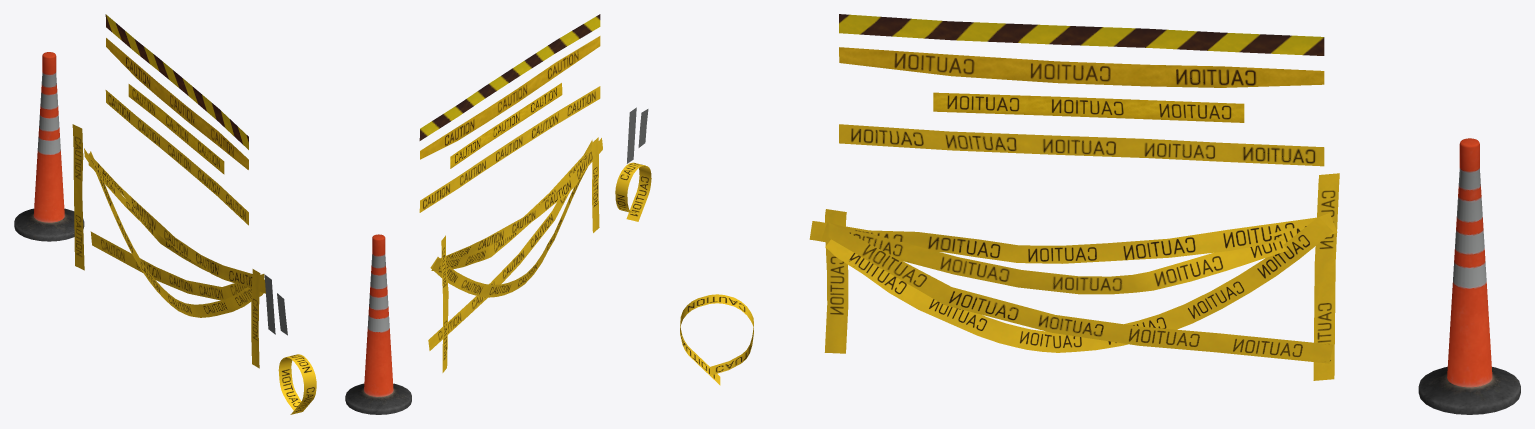
File: caution-tape.gltf
The picture shows the model from 3 angles, left to right: view 1: azimuth 30°, elevation 25°; view 2: azimuth 150°, elevation 25°; view 3: azimuth 270°, elevation 25°; orthographic projection. The views are drawn at different scales.
Parts seen in each view (by area): view 1: Stand, CautionTape_2, CautionTape_5, CautionTape_1, CautionTape_7, CautionTape_8, CautionTape_4, CautionTape_11, CautionTape_10, CautionTape_3, CautionTape_6, CautionTape_9 (+1 smaller); view 2: Stand, CautionTape_2, CautionTape_1, CautionTape_4, CautionTape_5, CautionTape_7, CautionTape_8, CautionTape_3, CautionTape_11, CautionTape_6, CautionTape_10, CautionTape_9 (+1 smaller); view 3: Stand, CautionTape_2, CautionTape_8, CautionTape_7, CautionTape_1, CautionTape_4, CautionTape_6, CautionTape_5, CautionTape_3, CautionTape_10, CautionTape_9, CautionTape_11.
Boxes of the visible parts, bbox=[...] form: Stand: bbox=[14, 52, 84, 241]; CautionTape_2: bbox=[106, 38, 248, 169]; CautionTape_5: bbox=[88, 153, 265, 293]; CautionTape_1: bbox=[105, 14, 248, 149]; CautionTape_7: bbox=[89, 151, 263, 317]; CautionTape_8: bbox=[90, 231, 264, 300]; CautionTape_4: bbox=[105, 90, 248, 225]; CautionTape_11: bbox=[278, 354, 316, 414]; CautionTape_10: bbox=[72, 124, 84, 270]; CautionTape_3: bbox=[128, 84, 224, 174]; CautionTape_6: bbox=[84, 148, 261, 278]; CautionTape_9: bbox=[251, 269, 260, 368]; Stand: bbox=[345, 234, 411, 414]; CautionTape_2: bbox=[420, 36, 600, 159]; CautionTape_1: bbox=[419, 14, 600, 140]; CautionTape_4: bbox=[419, 86, 600, 212]; CautionTape_5: bbox=[439, 138, 602, 269]; CautionTape_7: bbox=[430, 167, 587, 297]; CautionTape_8: bbox=[428, 140, 592, 350]; CautionTape_3: bbox=[450, 83, 562, 168]; CautionTape_11: bbox=[615, 162, 651, 221]; CautionTape_6: bbox=[431, 146, 592, 271]; CautionTape_10: bbox=[441, 235, 448, 372]; CautionTape_9: bbox=[592, 137, 599, 232]; Stand: bbox=[1418, 138, 1520, 414]; CautionTape_2: bbox=[839, 47, 1324, 87]; CautionTape_8: bbox=[828, 222, 1333, 363]; CautionTape_7: bbox=[825, 217, 1332, 352]; CautionTape_1: bbox=[839, 14, 1324, 55]; CautionTape_4: bbox=[839, 124, 1324, 166]; CautionTape_6: bbox=[821, 213, 1337, 294]; CautionTape_5: bbox=[809, 217, 1316, 263]; CautionTape_3: bbox=[933, 92, 1244, 122]; CautionTape_10: bbox=[1313, 173, 1339, 380]; CautionTape_9: bbox=[824, 209, 848, 353]; CautionTape_11: bbox=[680, 294, 753, 385].
Bounding box in the file's own units: 38.45 × 153 × 317.
Materials: 1 (1 with a texture image).
